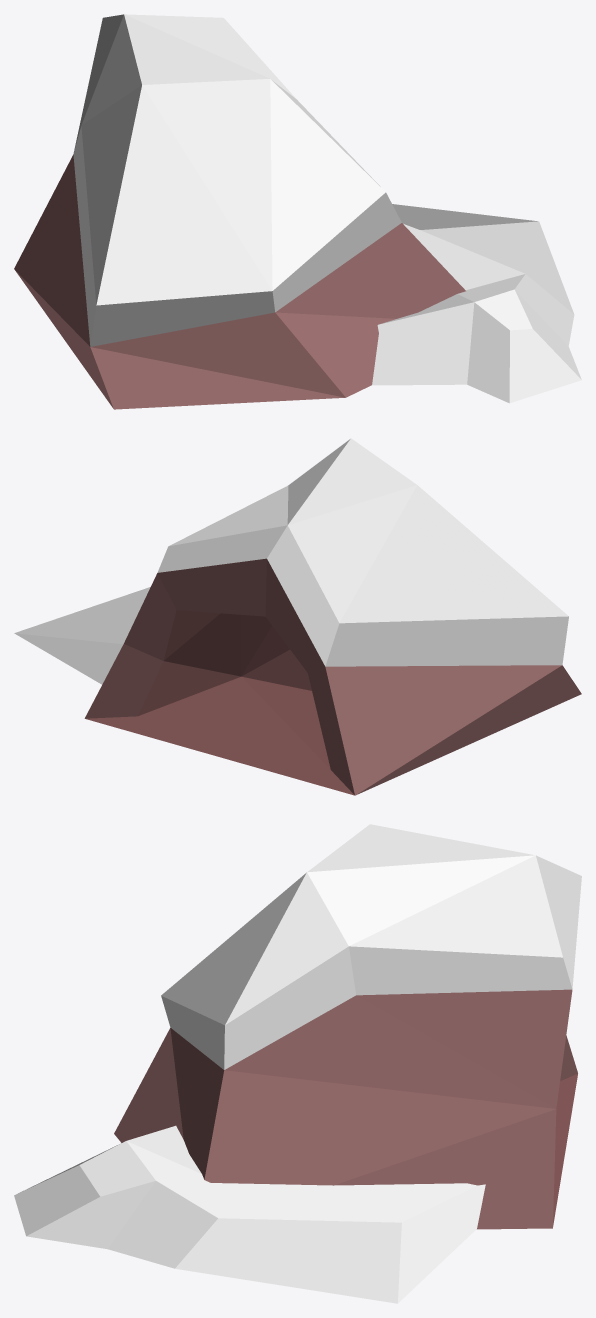
The model's file is CaveWinter_Alt1.fbx.
3 views of the same model, one above another, from view 1: azimuth 30°, elevation 25°; view 2: azimuth 150°, elevation 25°; view 3: azimuth 270°, elevation 25° (orthographic). The views are drawn at different scales.
Parts seen in each view (by area): view 1: CaveWinter_Alt1; view 2: CaveWinter_Alt1; view 3: CaveWinter_Alt1.
Part boxes in pixels (x1=…): CaveWinter_Alt1: x1=14, y1=14, x2=581, y2=409; CaveWinter_Alt1: x1=14, y1=438, x2=581, y2=795; CaveWinter_Alt1: x1=14, y1=824, x2=581, y2=1303.
Size of the model in its own units: 2.71 by 1.27 by 2.42.
